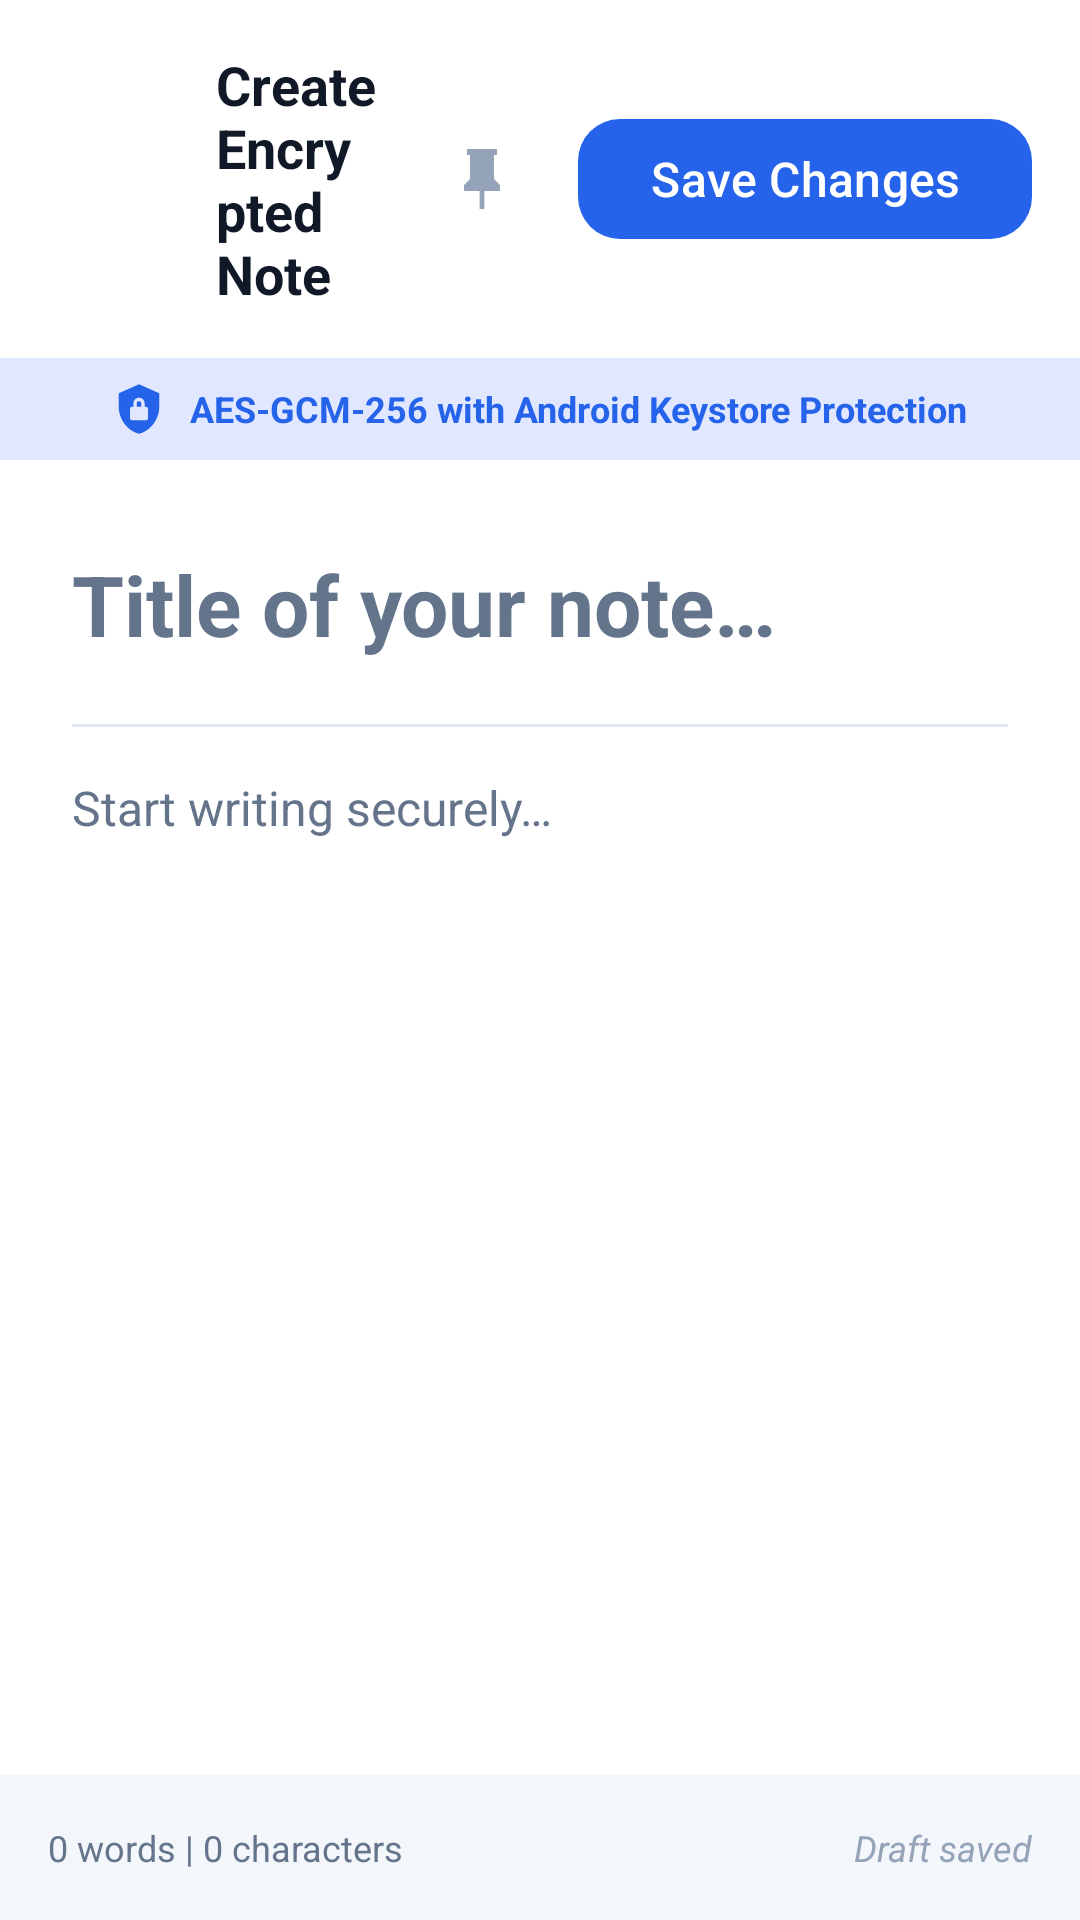

Screen size 1080x1920. Icon name, then its box in pixels as (x1, y1, x2, y2):
AES-256 Protected: (118, 384, 160, 434)
Pinned Note: (464, 149, 500, 209)
